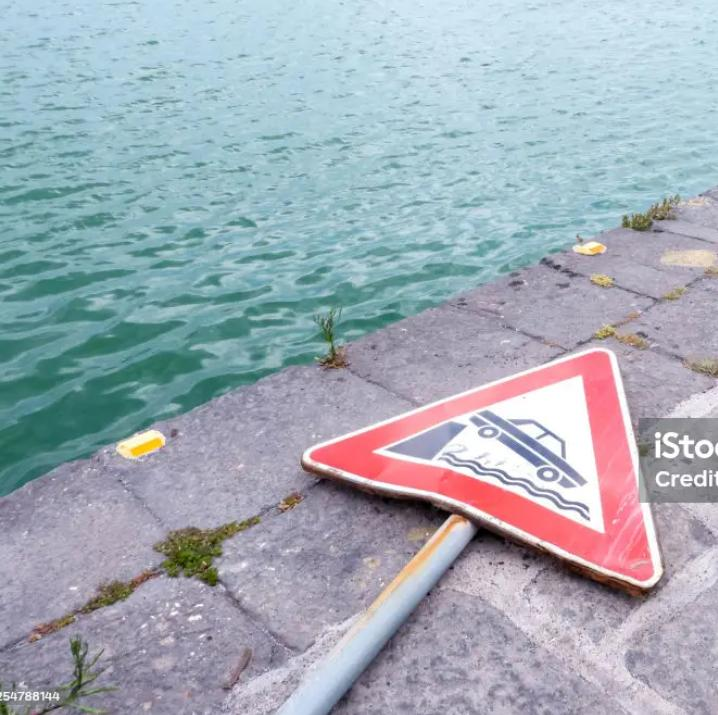obstructed_road_sign: (302, 348, 662, 591)
